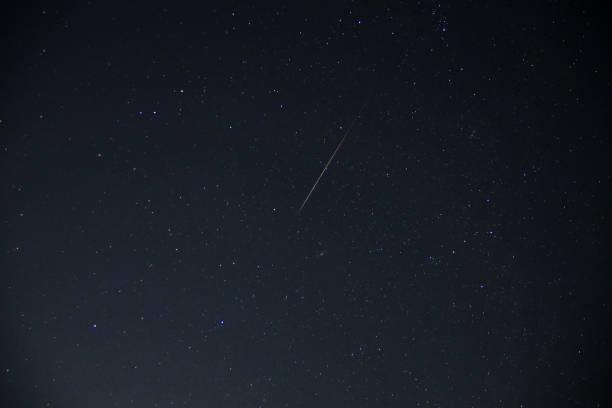meteor: (291, 196, 315, 219)
